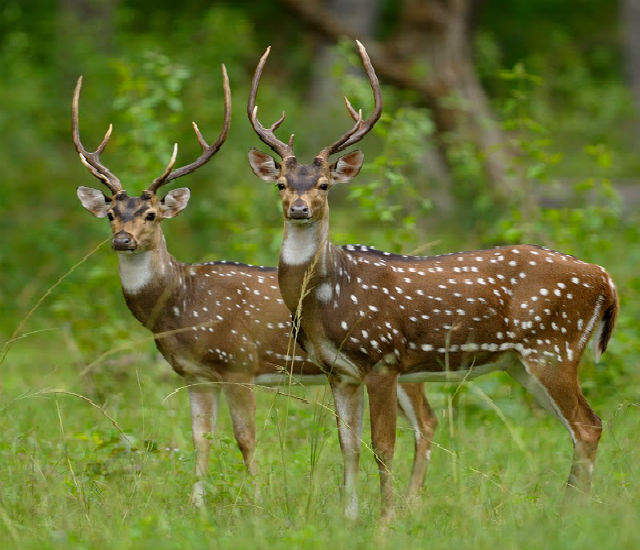Deer: (247, 41, 622, 525), (65, 68, 441, 520)
